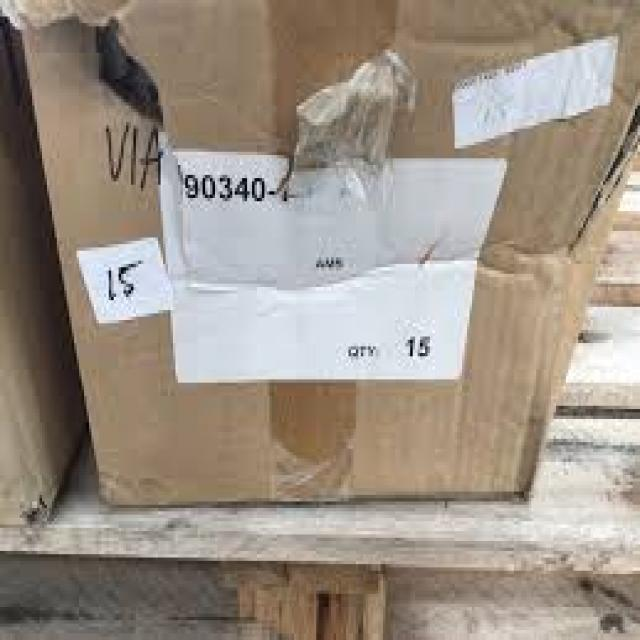hole: (87, 9, 195, 143)
